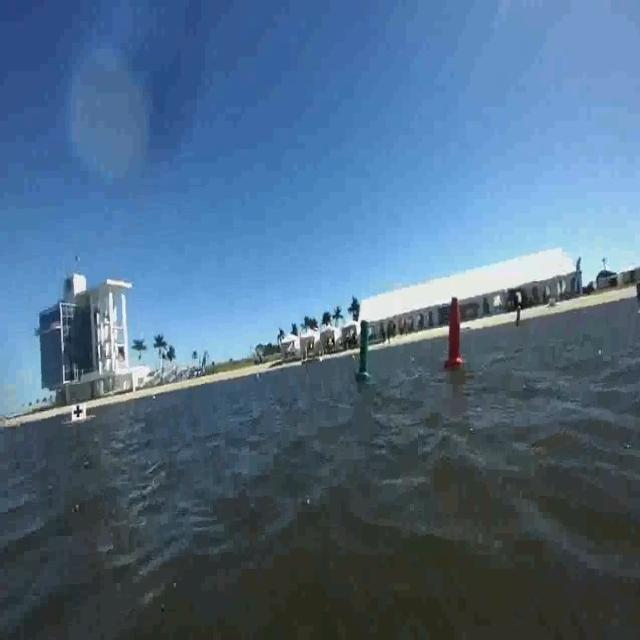green-column-buoy: (355, 319, 372, 382)
red-column-buoy: (444, 295, 465, 371)
